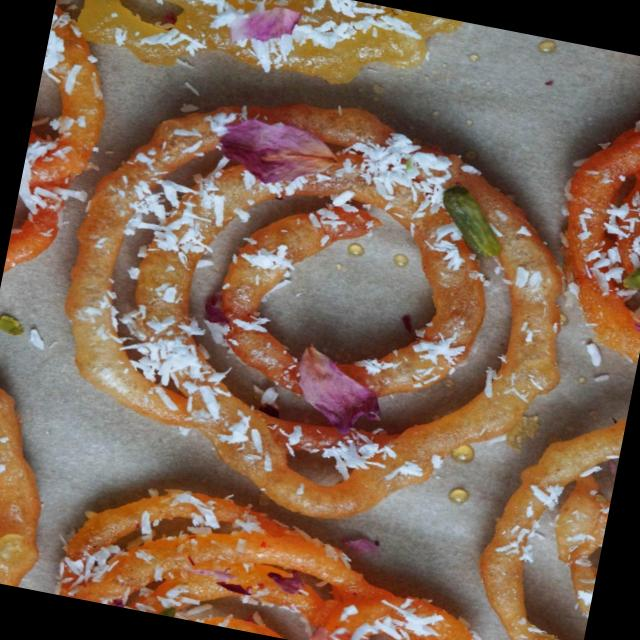jalebi: (58, 77, 600, 522), (57, 471, 549, 640), (458, 374, 631, 640), (6, 0, 138, 282), (533, 60, 640, 401)
